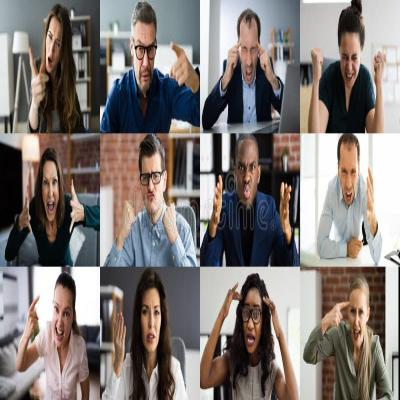angry: (140, 152, 164, 218), (235, 142, 257, 207), (133, 26, 154, 87), (340, 141, 359, 208), (139, 292, 161, 349), (241, 292, 262, 351), (340, 29, 360, 85), (54, 286, 72, 344), (349, 292, 367, 348), (42, 162, 59, 220), (241, 27, 257, 83), (47, 21, 61, 73)
